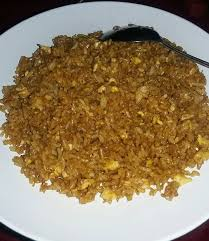Nasi goreng: (0, 30, 209, 206)
